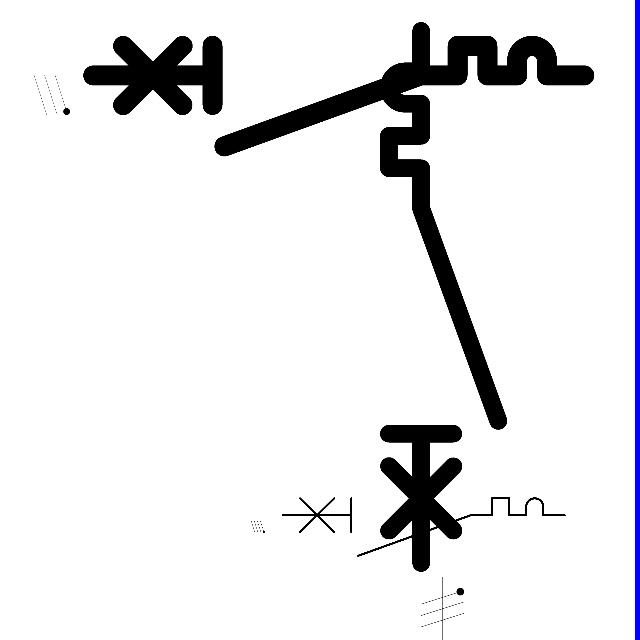interruptor_termomagnetico: (375, 17, 512, 577), (80, 33, 597, 159), (275, 491, 571, 563)
